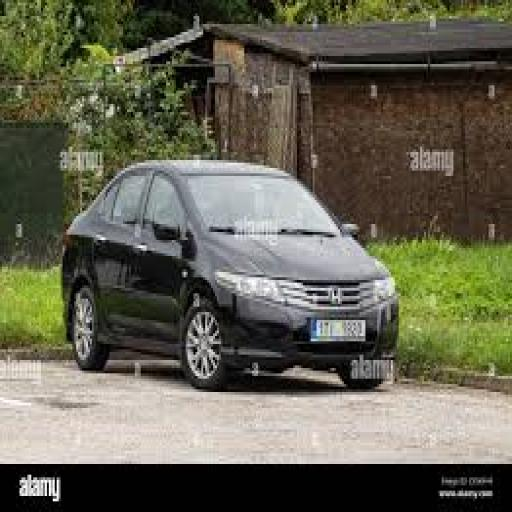License: (308, 317, 370, 346)
